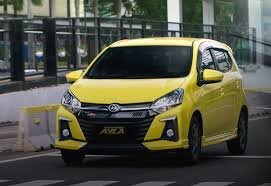mobil: (51, 35, 250, 167)
